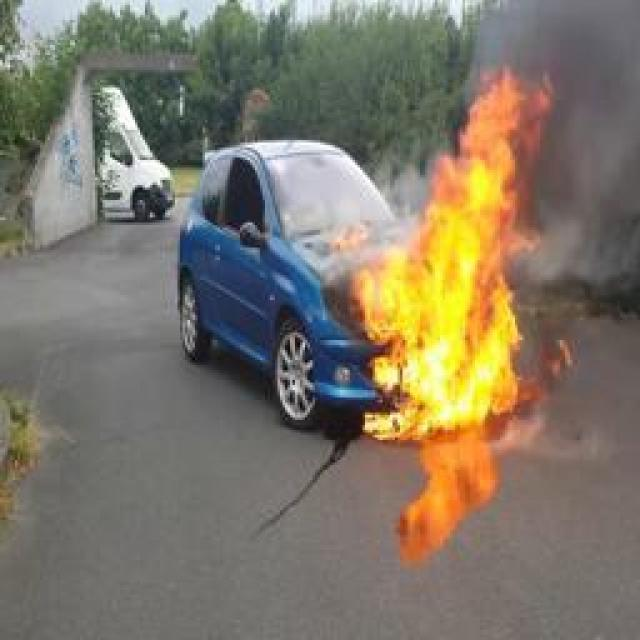Fire: (334, 72, 552, 438)
